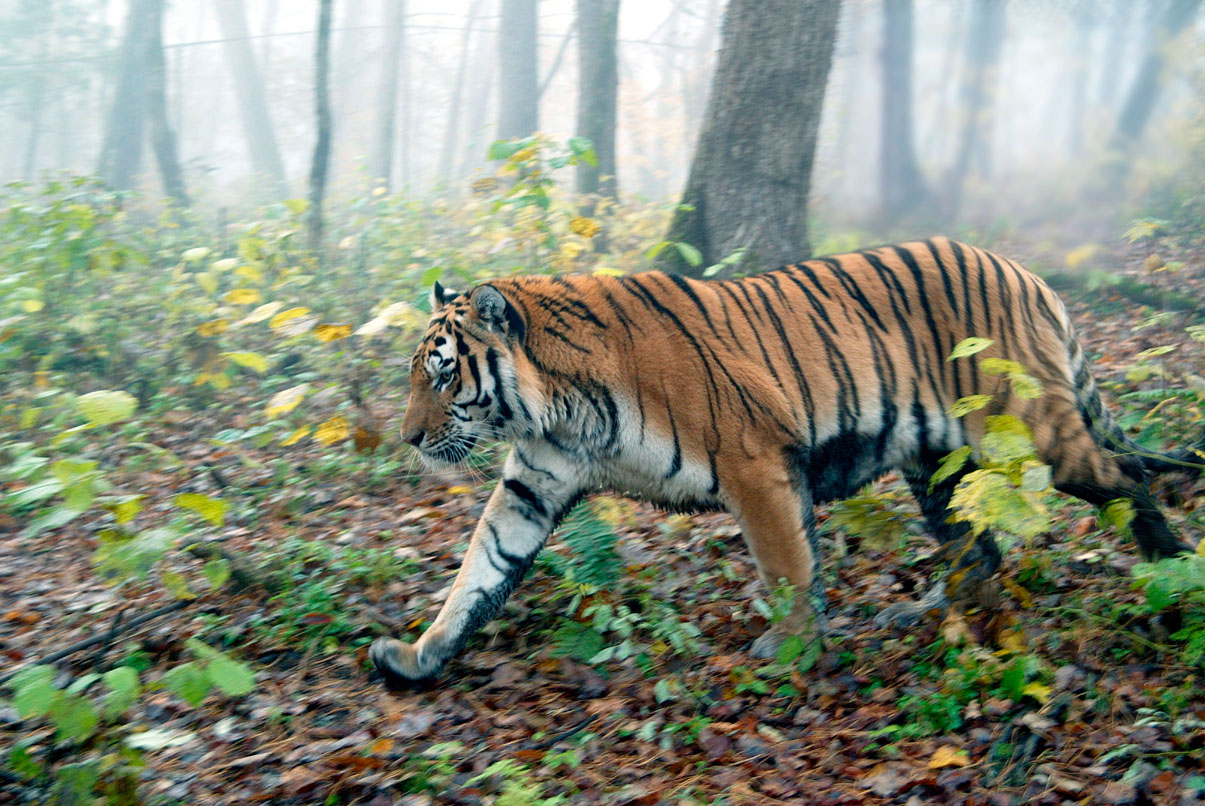Tigre: (372, 228, 1152, 699)
